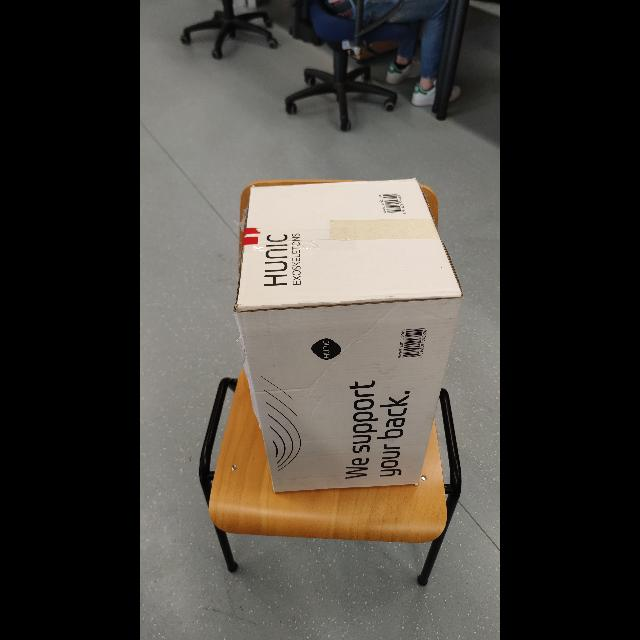cardboard_box: (211, 185, 463, 503)
